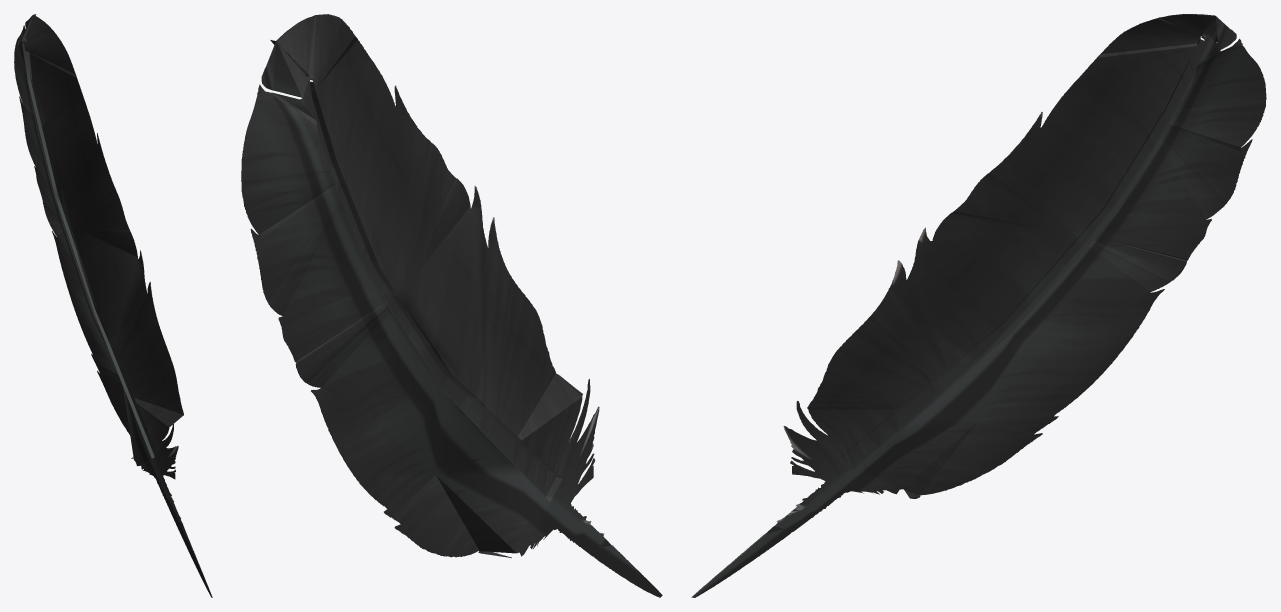
Rendered from feather.fbx.
3 renders of one model, left to right at view 1: azimuth 30°, elevation 25°; view 2: azimuth 150°, elevation 25°; view 3: azimuth 270°, elevation 25°, orthographic. The views are drawn at different scales.
Parts seen in each view (by area): view 1: Feather; view 2: Feather; view 3: Feather.
Boxes of the visible parts, x1,y1,x2,y2 form: Feather: (14,14,212,597); Feather: (241,14,662,597); Feather: (691,14,1266,597).
Size of the model in its own units: 6.97 by 148 by 130.
